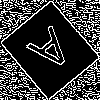A: (25, 25, 82, 82)
